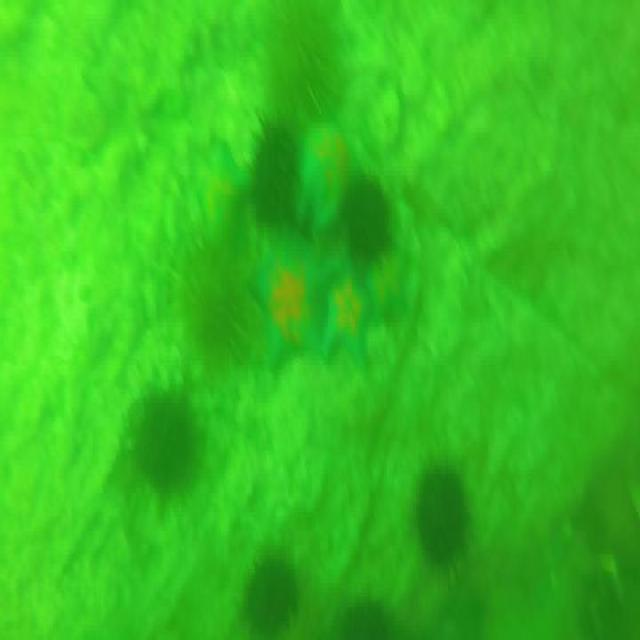echinus: (268, 0, 344, 112), (125, 376, 195, 490), (178, 234, 245, 352), (250, 112, 298, 221), (241, 550, 299, 640), (416, 468, 467, 564), (337, 169, 389, 259), (337, 597, 396, 640)
starfish: (244, 234, 326, 362), (326, 266, 380, 364)
